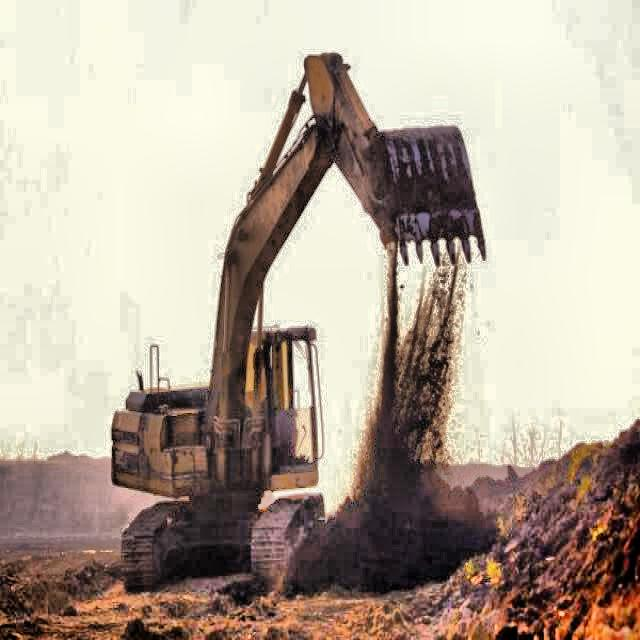excavator: (106, 38, 490, 598)
